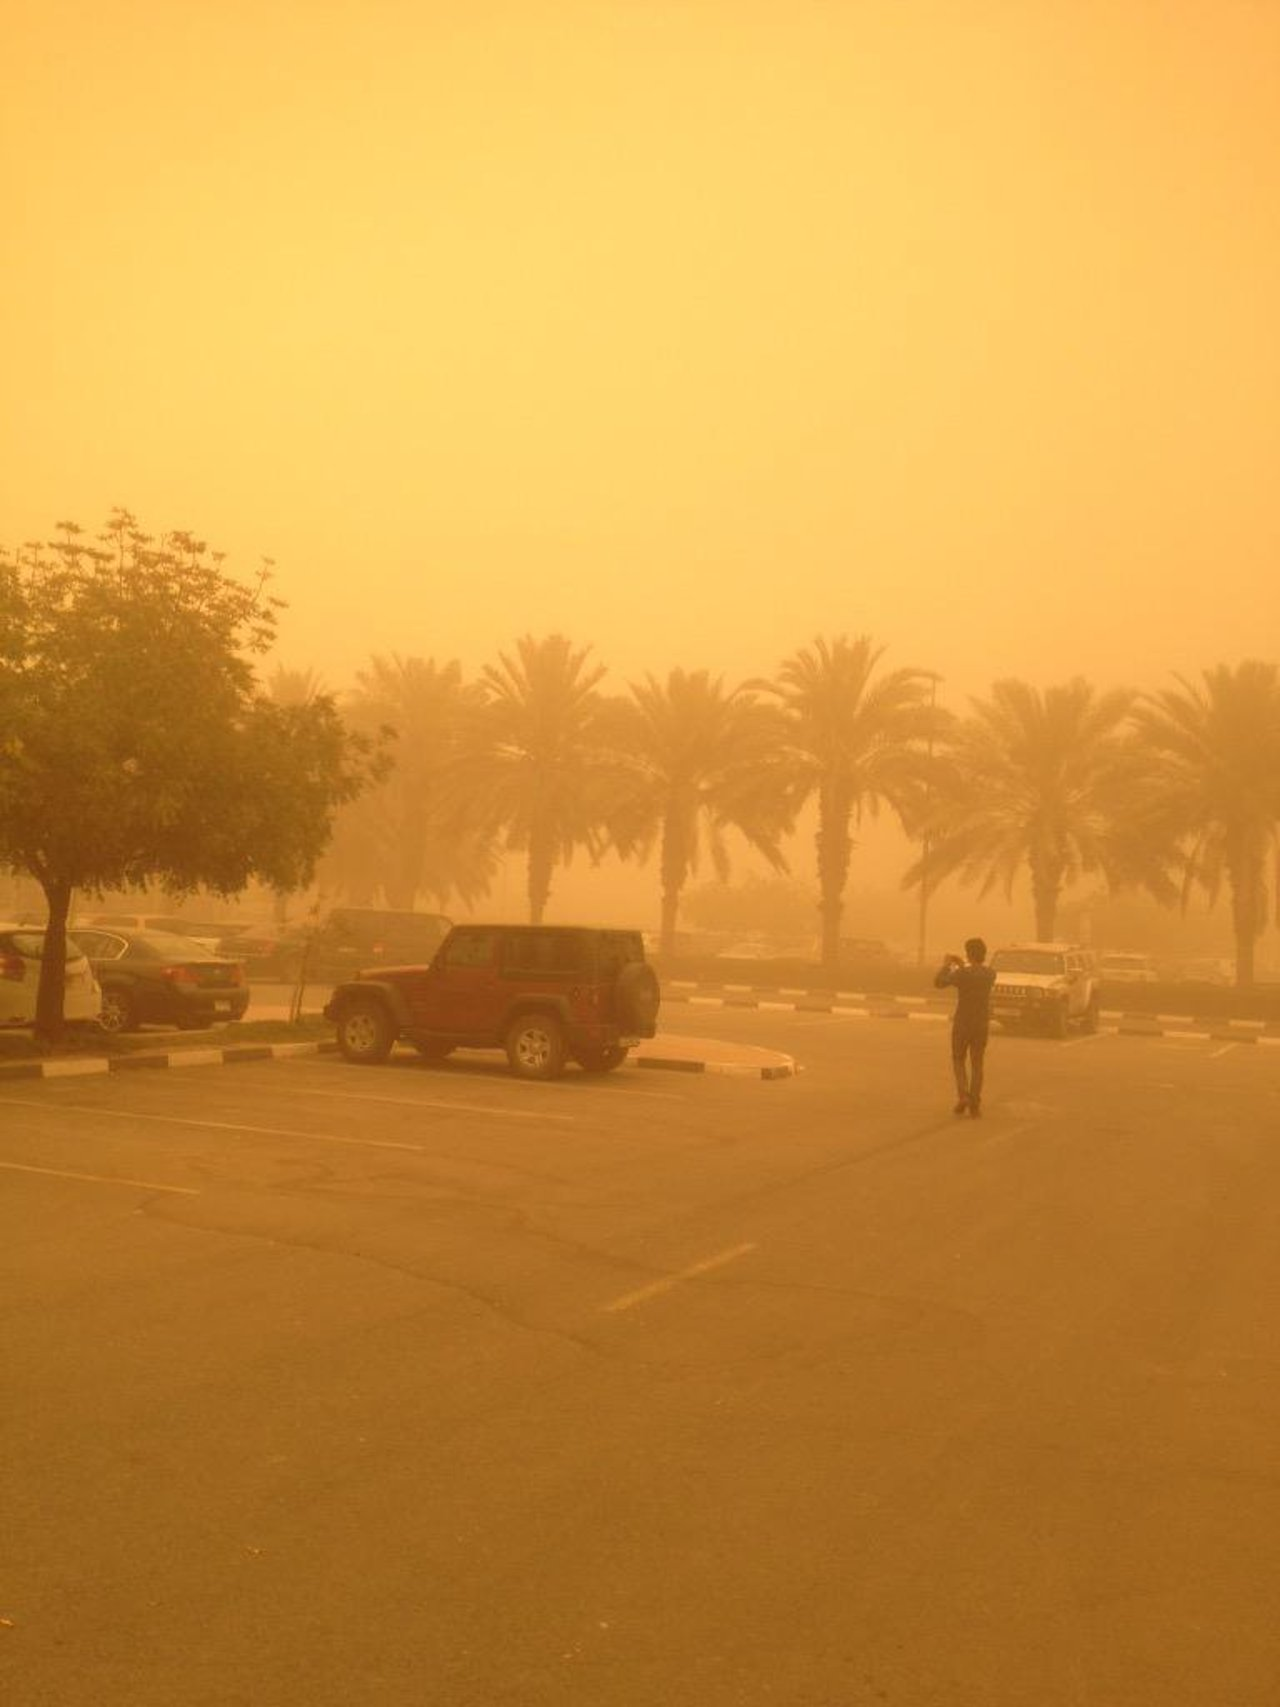car: (340, 922, 674, 1082), (77, 926, 249, 1041), (3, 906, 102, 1064), (985, 946, 1089, 1037), (1098, 947, 1154, 999)
person: (943, 939, 996, 1120)
